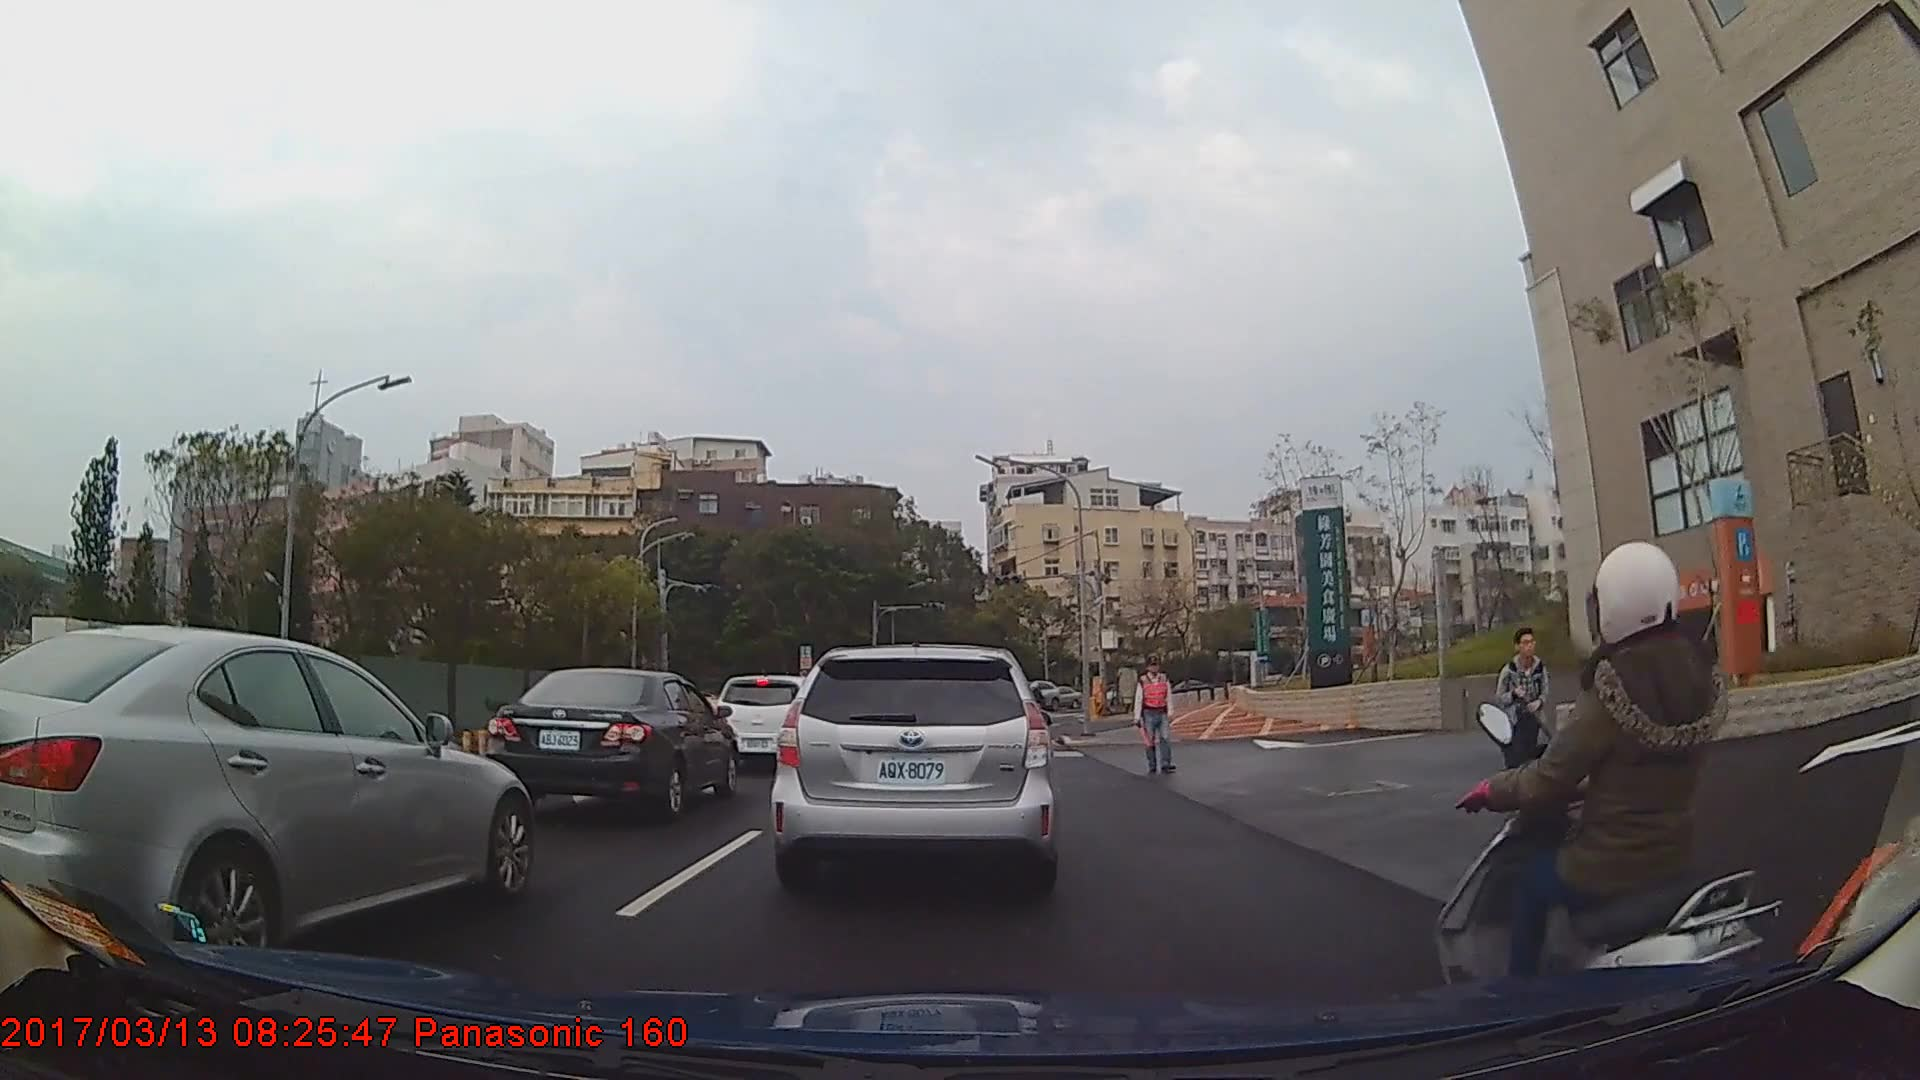pedestrian: (1494, 622, 1551, 818), (1137, 658, 1179, 779)
rider: (1443, 535, 1779, 1068)
vehicle: (0, 622, 531, 969), (769, 646, 1060, 900), (487, 668, 740, 823), (717, 676, 822, 766), (1043, 686, 1083, 715)
